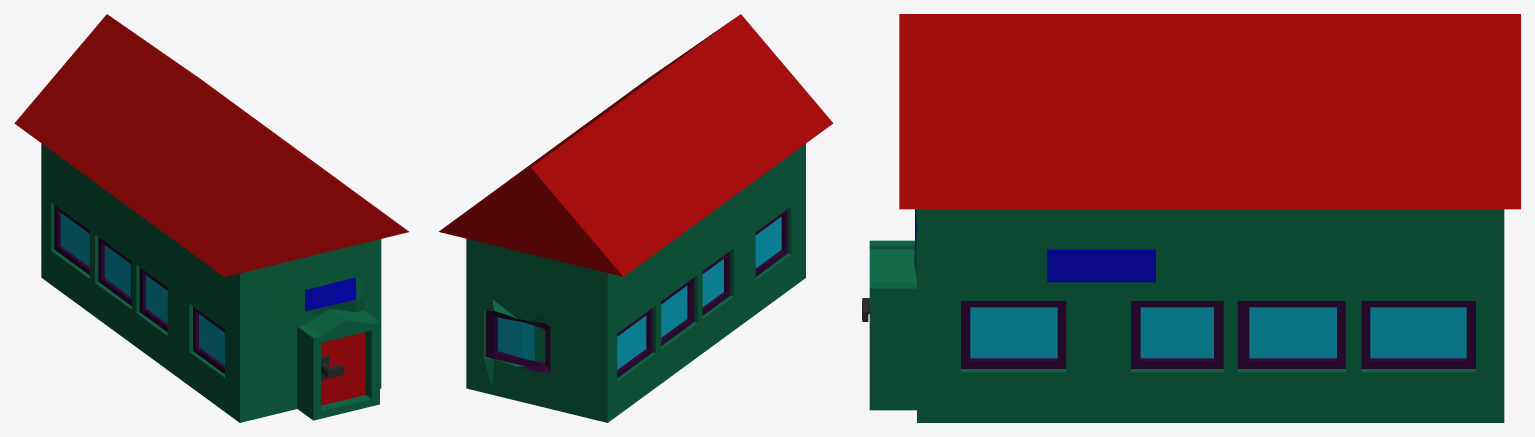
Rendered from Village_Hotel_1.fbx.
3 renders of one model, left to right at view 1: azimuth 30°, elevation 25°; view 2: azimuth 150°, elevation 25°; view 3: azimuth 270°, elevation 25°, orthographic. The views are drawn at different scales.
Visible parts, largest first — view 1: Village_Hotel_1; view 2: Village_Hotel_1; view 3: Village_Hotel_1.
Boxes of the visible parts, left/top/right/bottom form: Village_Hotel_1: left=14, top=14, right=408, bottom=422; Village_Hotel_1: left=439, top=14, right=833, bottom=422; Village_Hotel_1: left=862, top=14, right=1520, bottom=422.
Bounding box in the file's own units: 458 × 573 × 955.
